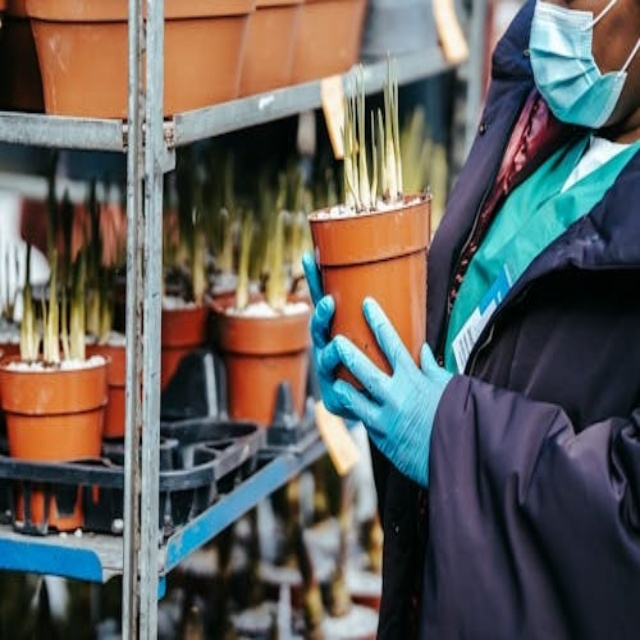Guantes: (334, 296, 449, 484), (298, 242, 347, 417)
Mascara: (526, 0, 638, 130)
